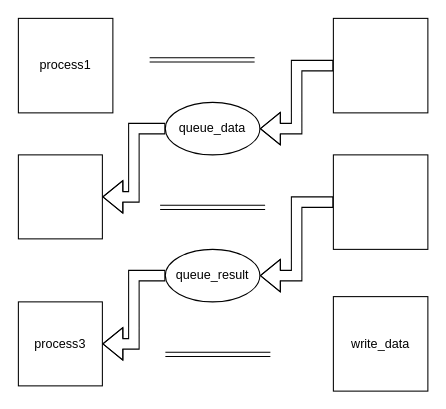
This 446x409 diagram has some shape labels left out. Here are the shapes that lost their labels. From the top down, the centre of each, then its label:
At (x=380, y=65): "read_data".
At (x=59, y=196): "process2".
At (x=380, y=201): "post_data".
